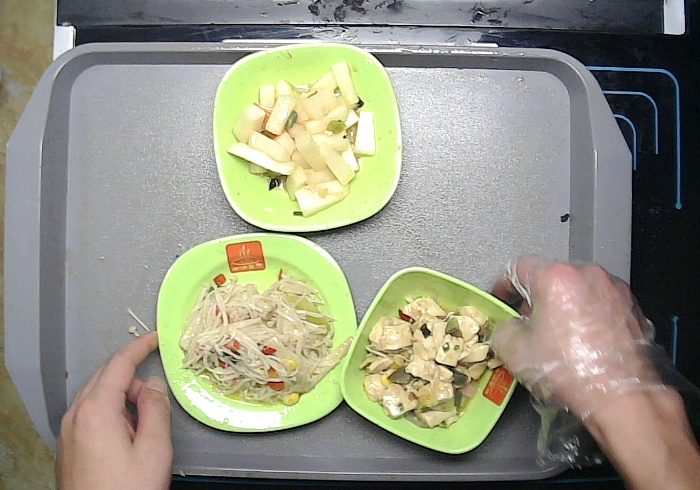SHKJ-Lv_Se_Cai_Die: (210, 44, 403, 229)
SHKJ-Lv_Se_Si_Fang_Cai_Die: (154, 230, 359, 434)
SHKJ-Lv_Se_Xiao_Fang_Die: (338, 267, 529, 452)
